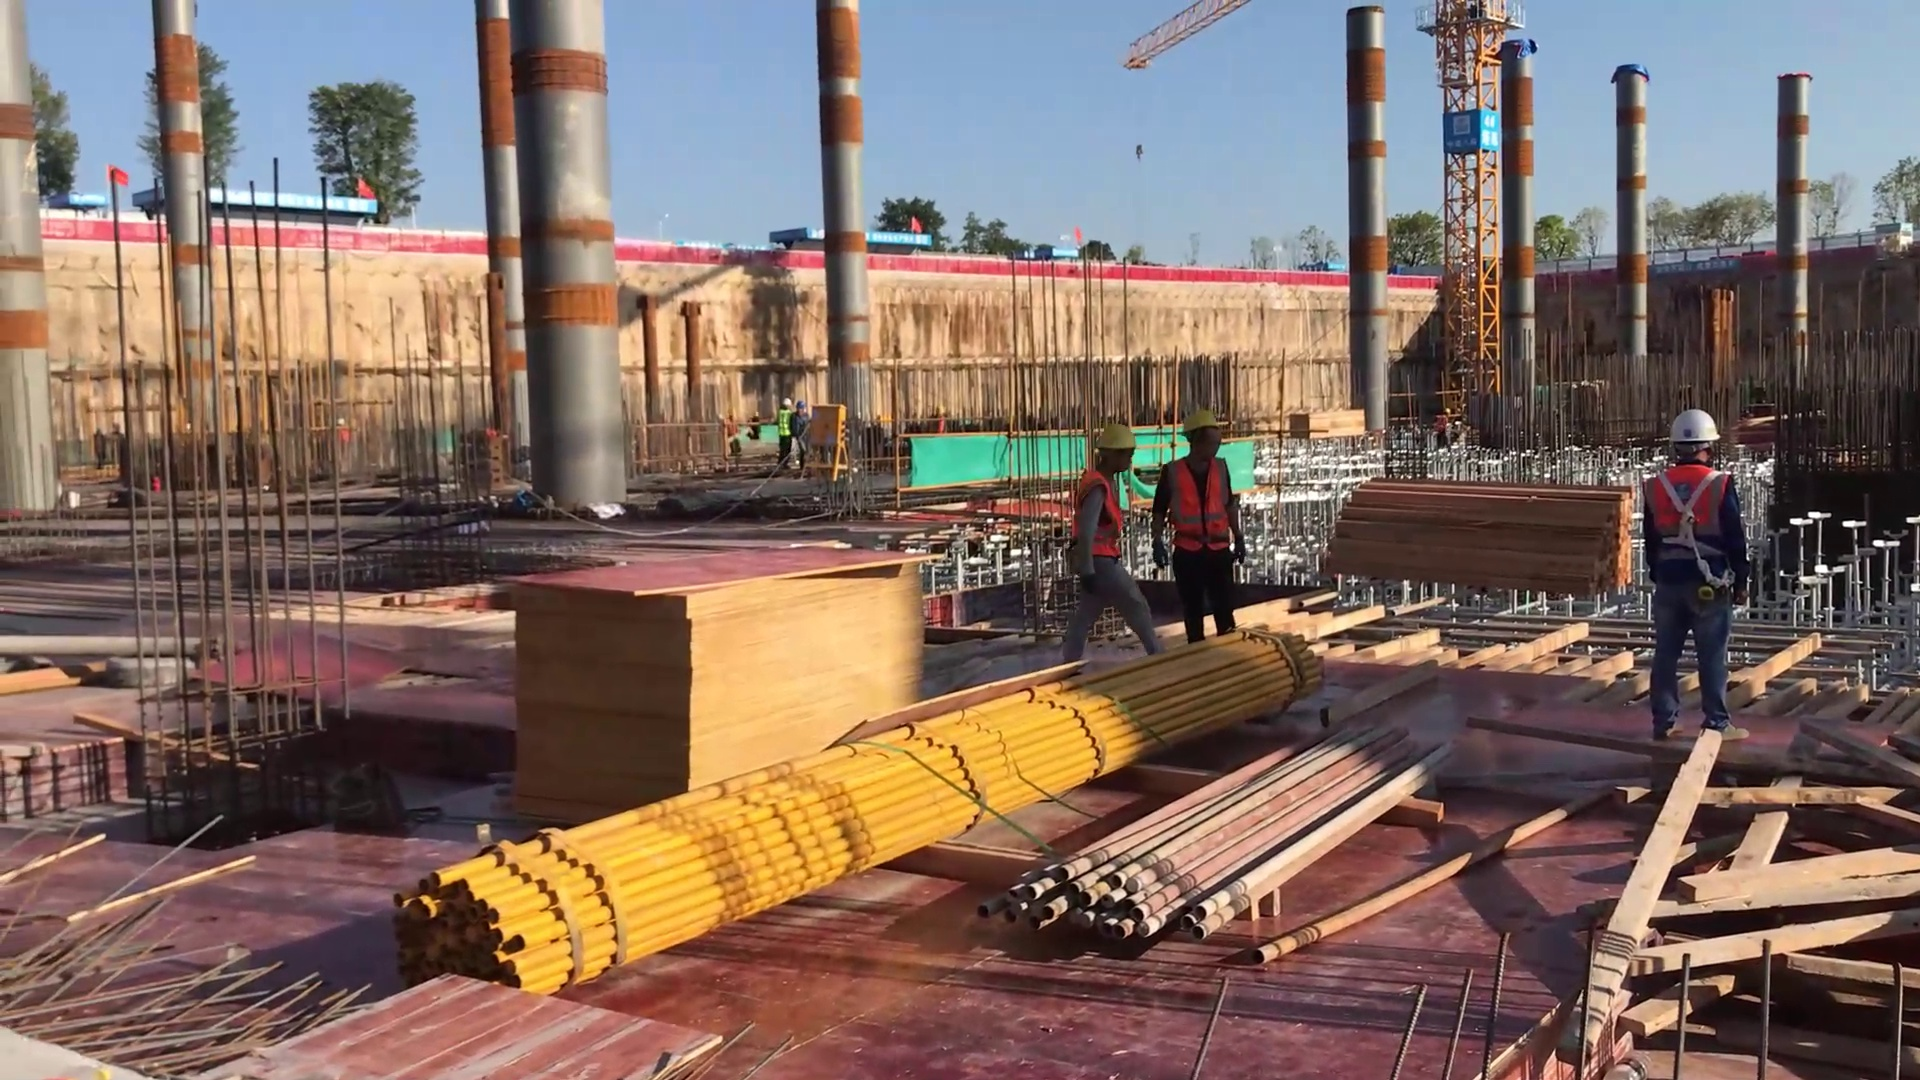helmet: (1661, 402, 1724, 455), (1089, 422, 1139, 455), (1176, 408, 1228, 437)
person: (1638, 394, 1760, 752), (1050, 418, 1179, 676), (1146, 400, 1267, 643)
vest: (1646, 462, 1733, 605), (1167, 452, 1242, 562), (1063, 466, 1128, 565)
